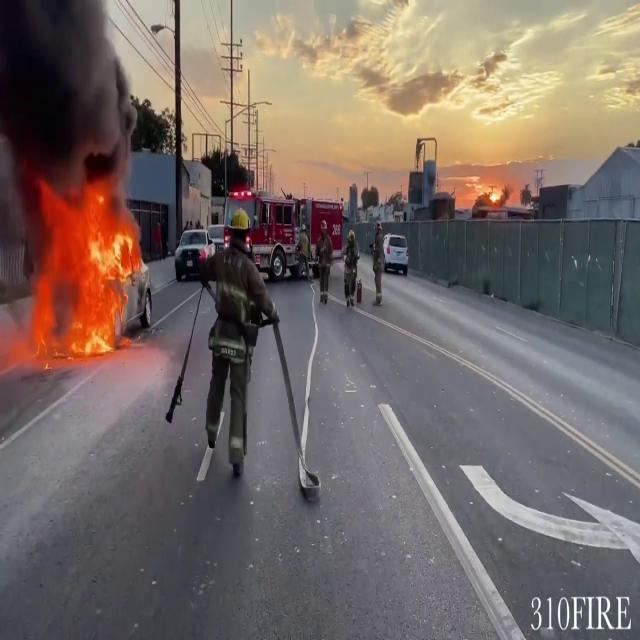Fire: (16, 177, 142, 360)
Smoke: (0, 0, 138, 204)
